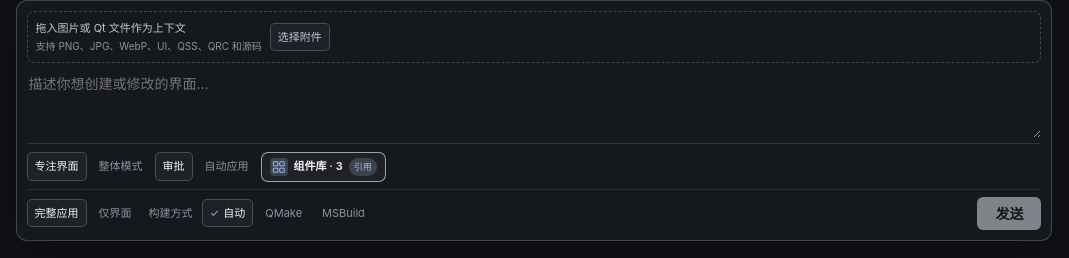
Test: TaskComposer build selection › shows selected component count and can disable the library for this task
Later steps or results of the test are not shown.
Expected: the icon is shown, [272,160,286,174]
Click the button with aria-label "引用组件库" at (323, 166), box [261,152,386,182]
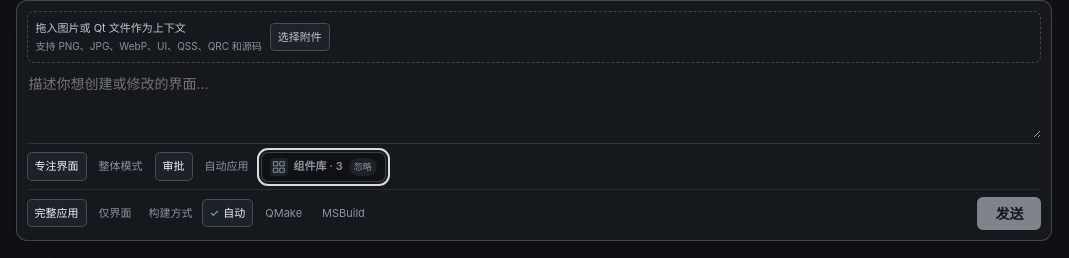
Result: the button with aria-label "引用组件库" shows "忽略" at [261,152,386,182]
